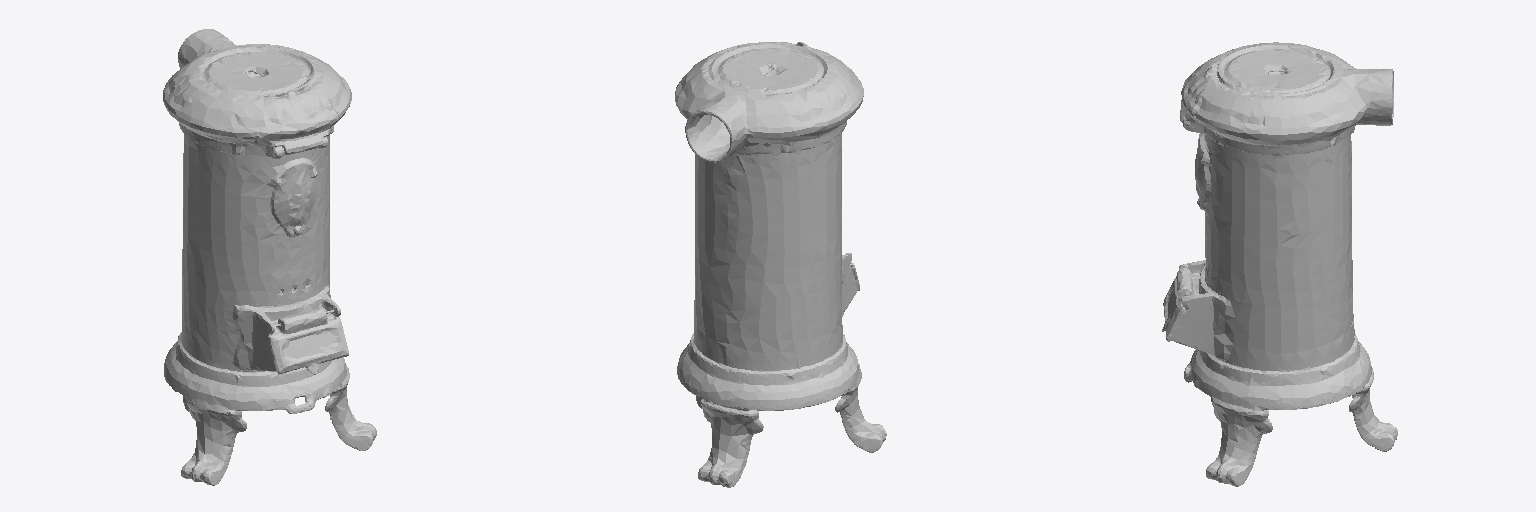
File: stove.obj
3 views of the same model, side by side, from view 1: azimuth 30°, elevation 25°; view 2: azimuth 150°, elevation 25°; view 3: azimuth 270°, elevation 25° (orthographic).
Visible parts, largest first — view 1: Aset_other__S_udmheheqx_LOD0; view 2: Aset_other__S_udmheheqx_LOD0; view 3: Aset_other__S_udmheheqx_LOD0.
Boxes of the visible parts, x1,y1,x2,y2 form: Aset_other__S_udmheheqx_LOD0: [163, 29, 376, 485]; Aset_other__S_udmheheqx_LOD0: [675, 42, 886, 487]; Aset_other__S_udmheheqx_LOD0: [1162, 42, 1397, 486].
Size of the model in its own units: 0.4323 by 0.8257 by 0.4681.